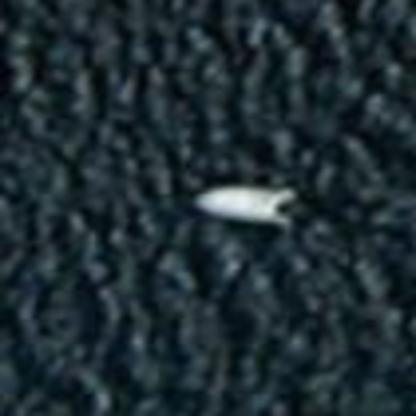ship: (184, 172, 304, 235)
